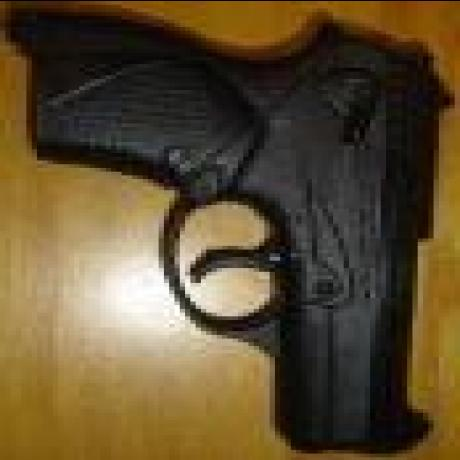weapon: (26, 10, 450, 458)
